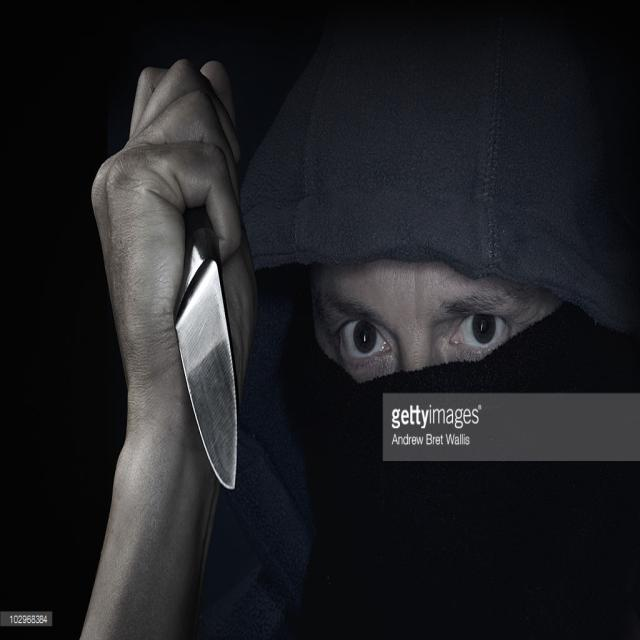knife: (175, 241, 246, 506)
